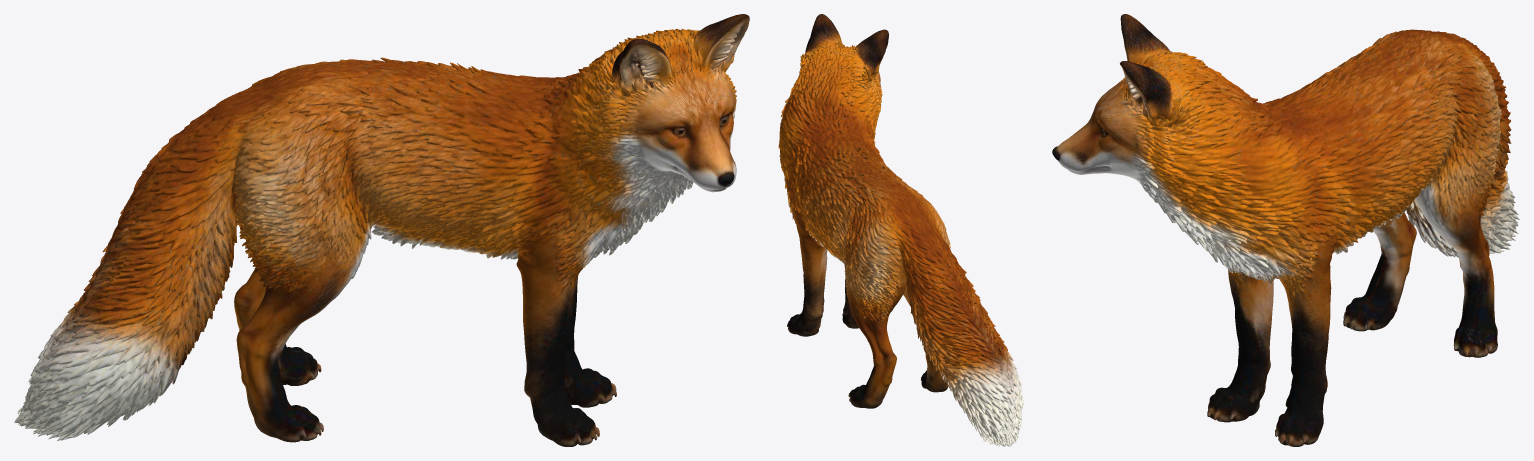
The model's file is fox.meshopt.glb.
3 views of the same model, side by side, from view 1: azimuth 30°, elevation 25°; view 2: azimuth 150°, elevation 25°; view 3: azimuth 270°, elevation 25° (orthographic). The views are drawn at different scales.
Parts seen in each view (by area): view 1: fox; view 2: fox; view 3: fox.
Part boxes in pixels (bbox=[...]): fox: bbox=[14, 14, 749, 446]; fox: bbox=[778, 14, 1023, 446]; fox: bbox=[1052, 14, 1519, 446].
Bounding box in the file's own units: 0.9999 × 0.7911 × 0.8204.
1 material, 1 textured.
